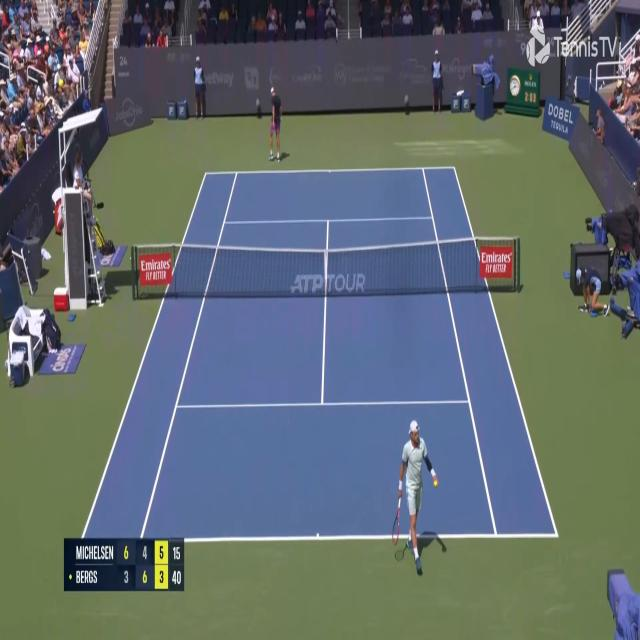tennis-player: (392, 418, 448, 578), (267, 83, 286, 165)
